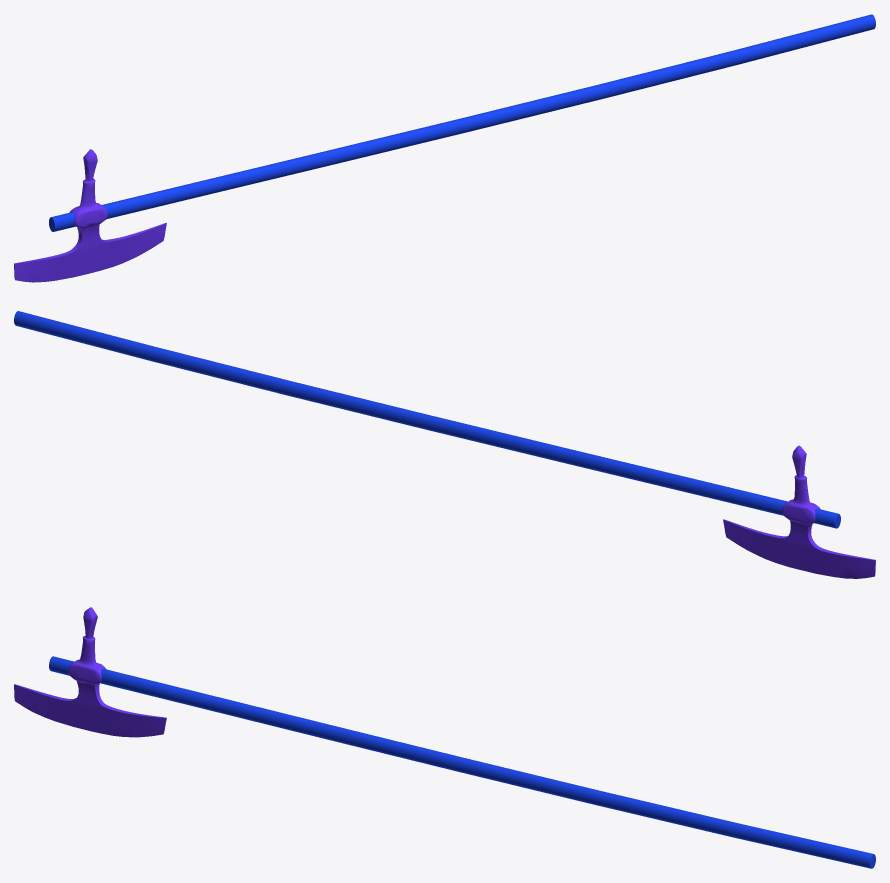
Rendered from varangian_axe_b.fbx.
3 views of the same model, one above another, from view 1: azimuth 30°, elevation 25°; view 2: azimuth 150°, elevation 25°; view 3: azimuth 330°, elevation 25° (orthographic).
Visible parts, largest first — view 1: varangian_axe_b; view 2: varangian_axe_b; view 3: varangian_axe_b.
Part boxes in pixels (bbox=[...]): varangian_axe_b: bbox=[14, 14, 875, 282]; varangian_axe_b: bbox=[14, 311, 875, 578]; varangian_axe_b: bbox=[14, 607, 875, 868].
Size of the model in its own units: 159 by 21.93 by 2.37.
